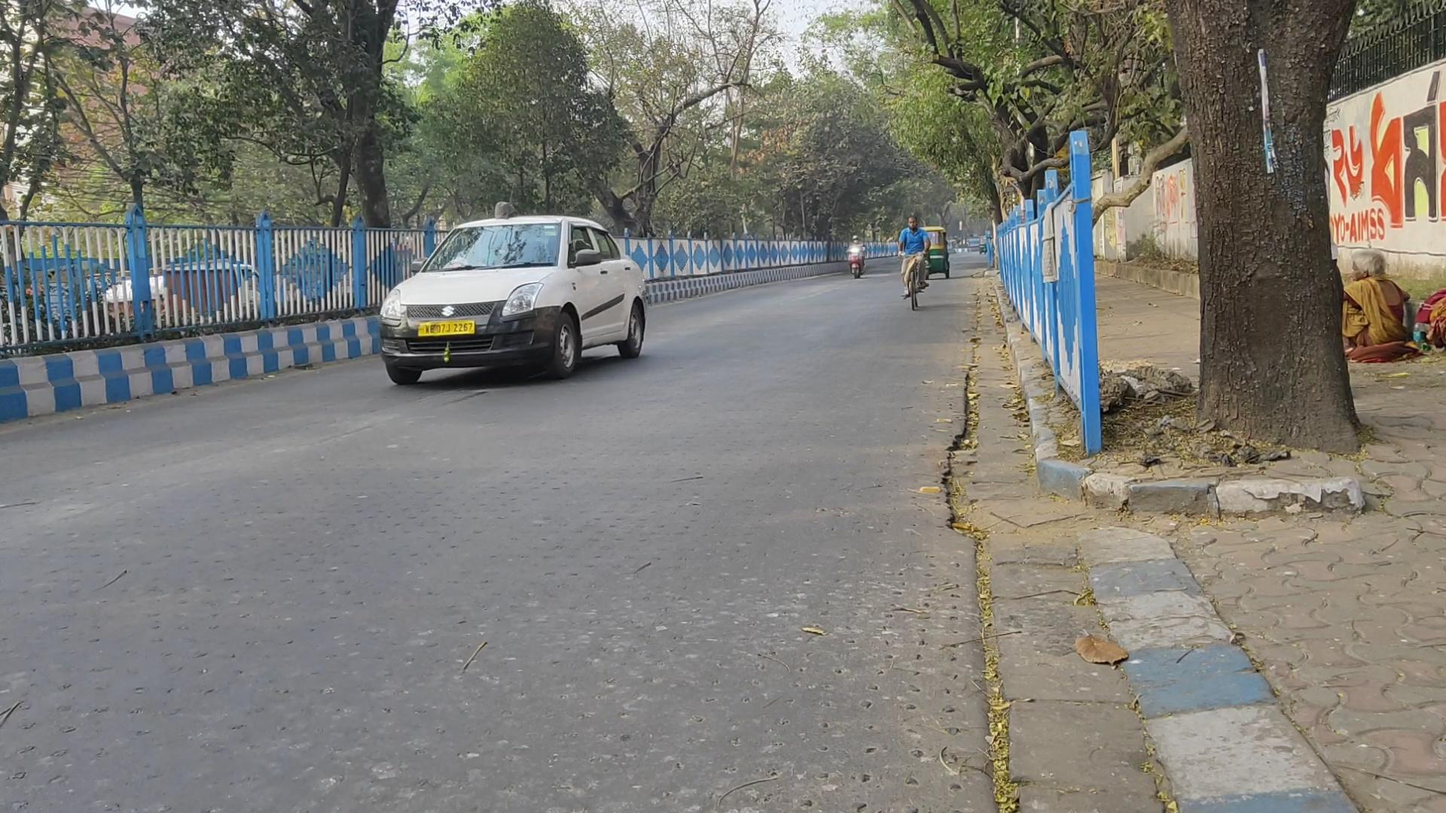Auto: (919, 225, 952, 282)
bike: (899, 216, 929, 310), (847, 233, 868, 281)
car: (379, 211, 646, 384)
